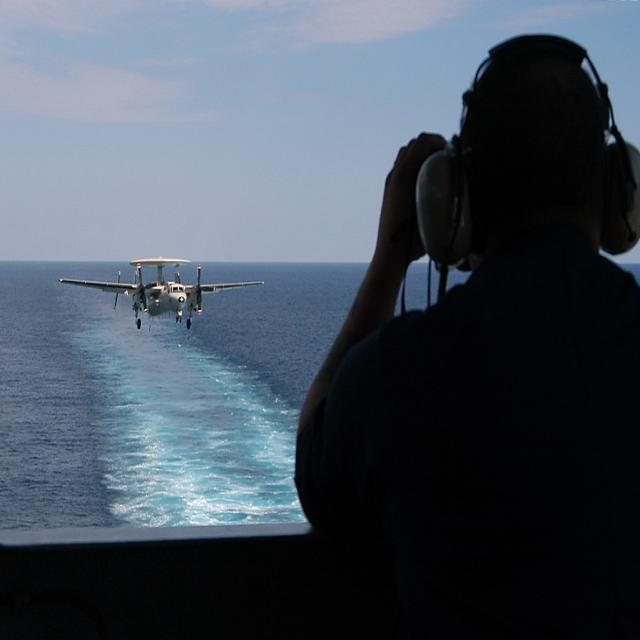MIL_Plane: (58, 255, 264, 331)
